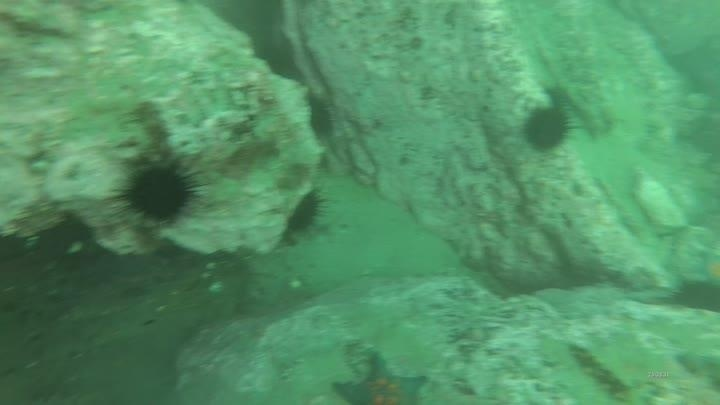echinus: (114, 155, 205, 228), (521, 103, 574, 155), (283, 186, 328, 237), (669, 276, 720, 316), (303, 92, 338, 144), (539, 81, 576, 115)
starfish: (331, 349, 430, 403), (690, 246, 720, 290)
